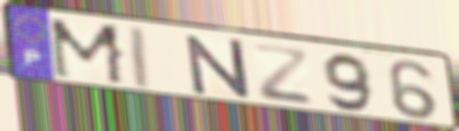6: (386, 57, 441, 122)
9: (319, 51, 377, 113)
I: (130, 24, 154, 93)
M: (46, 17, 129, 88)
N: (183, 34, 254, 101)
Z: (251, 42, 316, 108)
